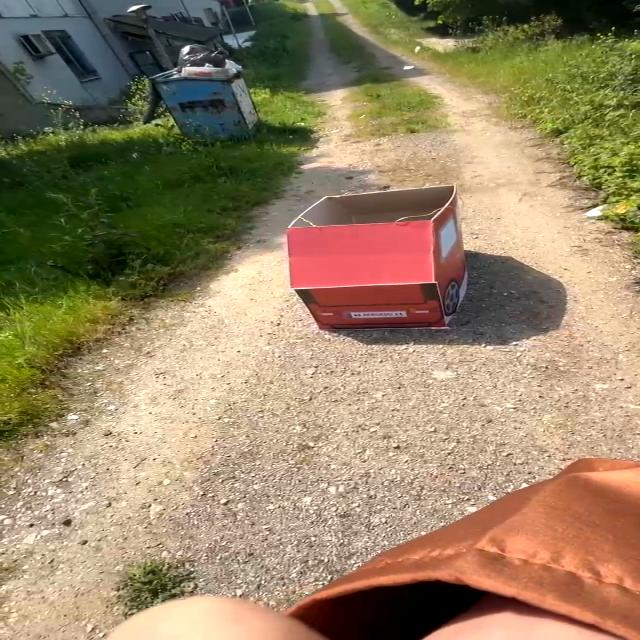red_car: (261, 171, 513, 347)
